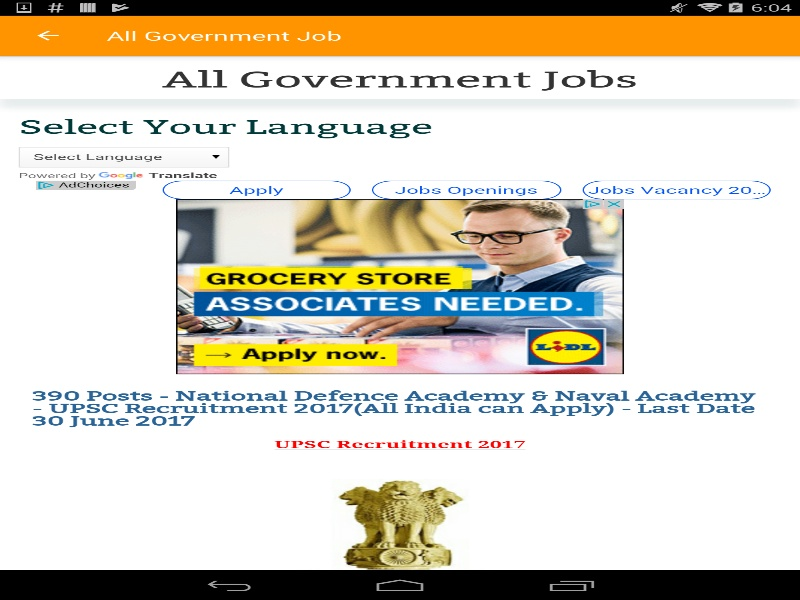Button: (18, 146, 229, 167), (10, 15, 85, 55)
